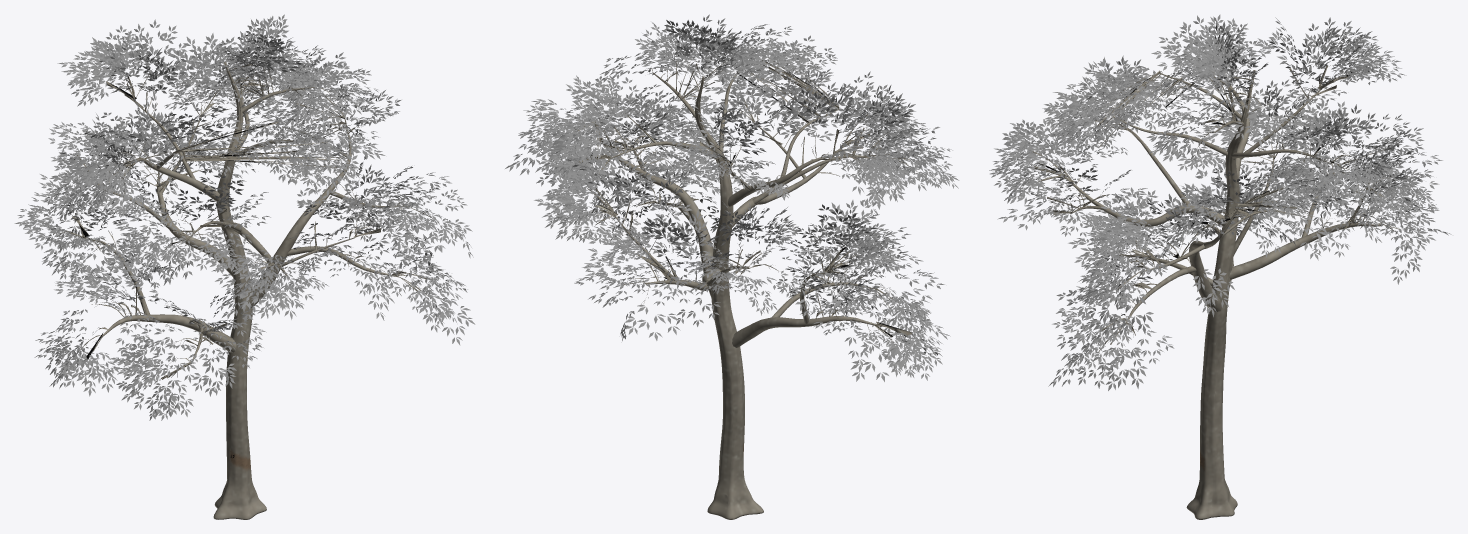
The model's file is RT_Mature_A_LOD2.glb.
The picture shows the model from 3 angles, left to right: view 1: azimuth 30°, elevation 25°; view 2: azimuth 150°, elevation 25°; view 3: azimuth 270°, elevation 25°; orthographic projection. The views are drawn at different scales.
Visible parts, largest first — view 1: RT_Mature_A_LOD2_Foliage, RT_Mature_A_LOD2_Body; view 2: RT_Mature_A_LOD2_Foliage, RT_Mature_A_LOD2_Body; view 3: RT_Mature_A_LOD2_Foliage, RT_Mature_A_LOD2_Body.
Boxes of the visible parts, x1,y1,x2,y2 form: RT_Mature_A_LOD2_Foliage: (14,14,475,420); RT_Mature_A_LOD2_Body: (53,55,436,519); RT_Mature_A_LOD2_Foliage: (505,14,959,381); RT_Mature_A_LOD2_Body: (573,46,918,519); RT_Mature_A_LOD2_Foliage: (989,14,1451,390); RT_Mature_A_LOD2_Body: (1032,65,1399,519).
Bounding box in the file's own units: 11.61 × 13.91 × 12.01.
2 materials, 1 textured.
